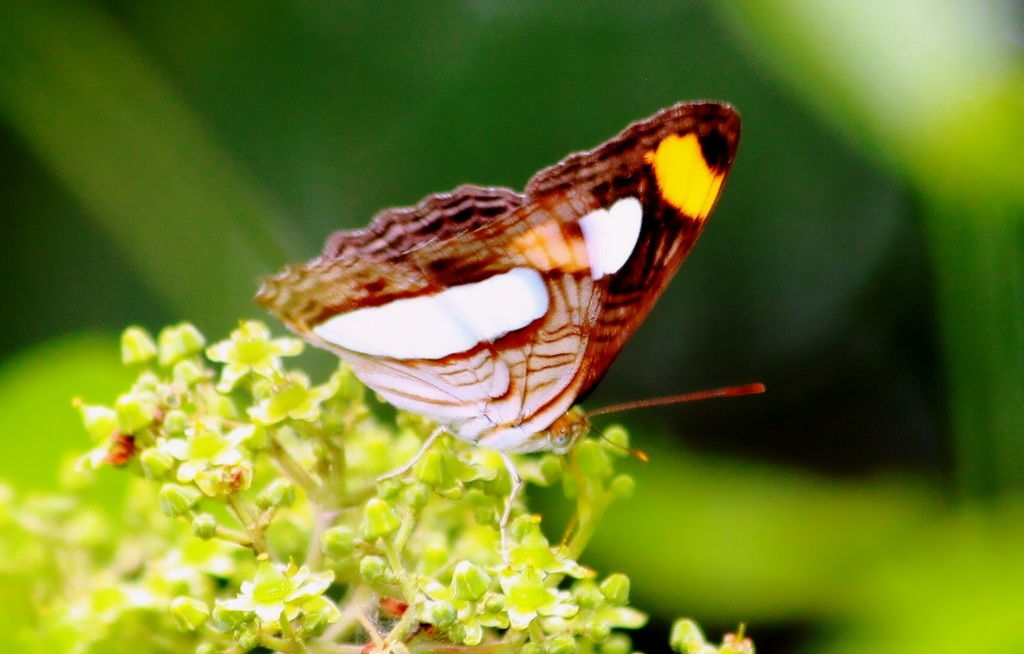Butterfly: (245, 115, 779, 508)
